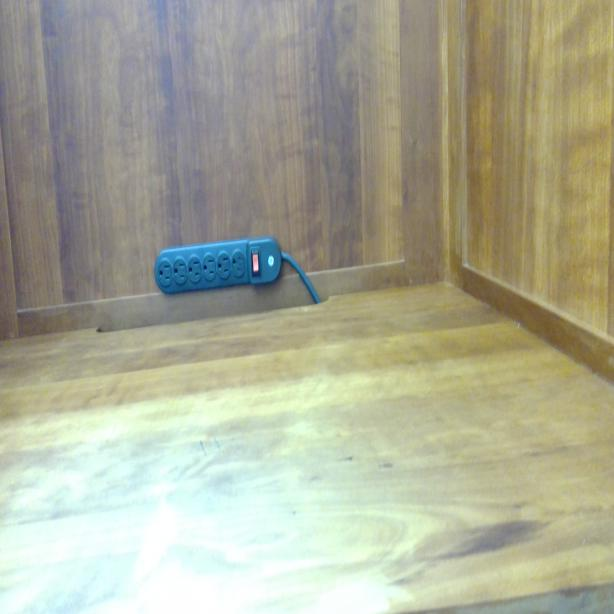typeb: (156, 260, 174, 289), (202, 253, 217, 286), (230, 248, 246, 278), (217, 249, 232, 280), (188, 253, 202, 284), (173, 258, 187, 288)
